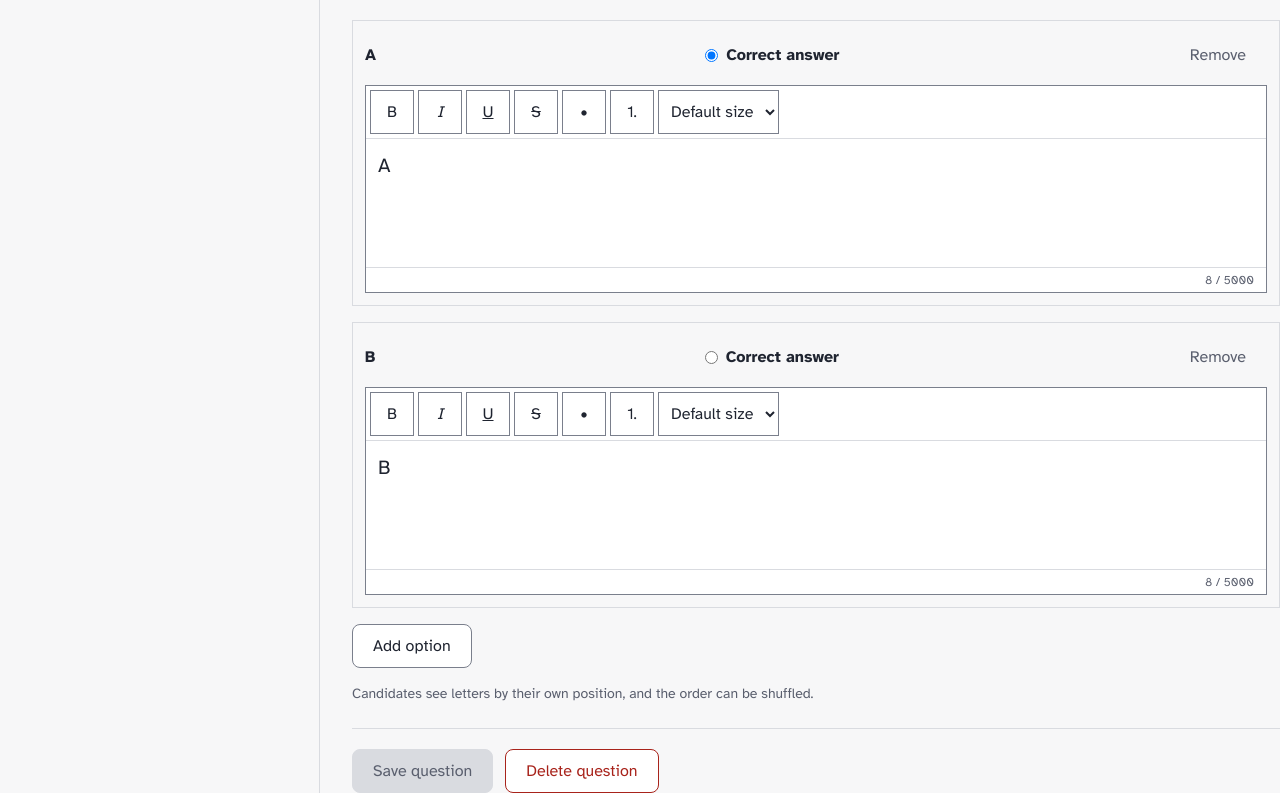
it: QuestionBuilder › shows delete failures as persistent toasts
This screenshot has width=1280, height=793.
(page scrolled)
Click the button "Delete question". click: click(582, 771)
box: x1=505 y1=749 x2=659 y2=792
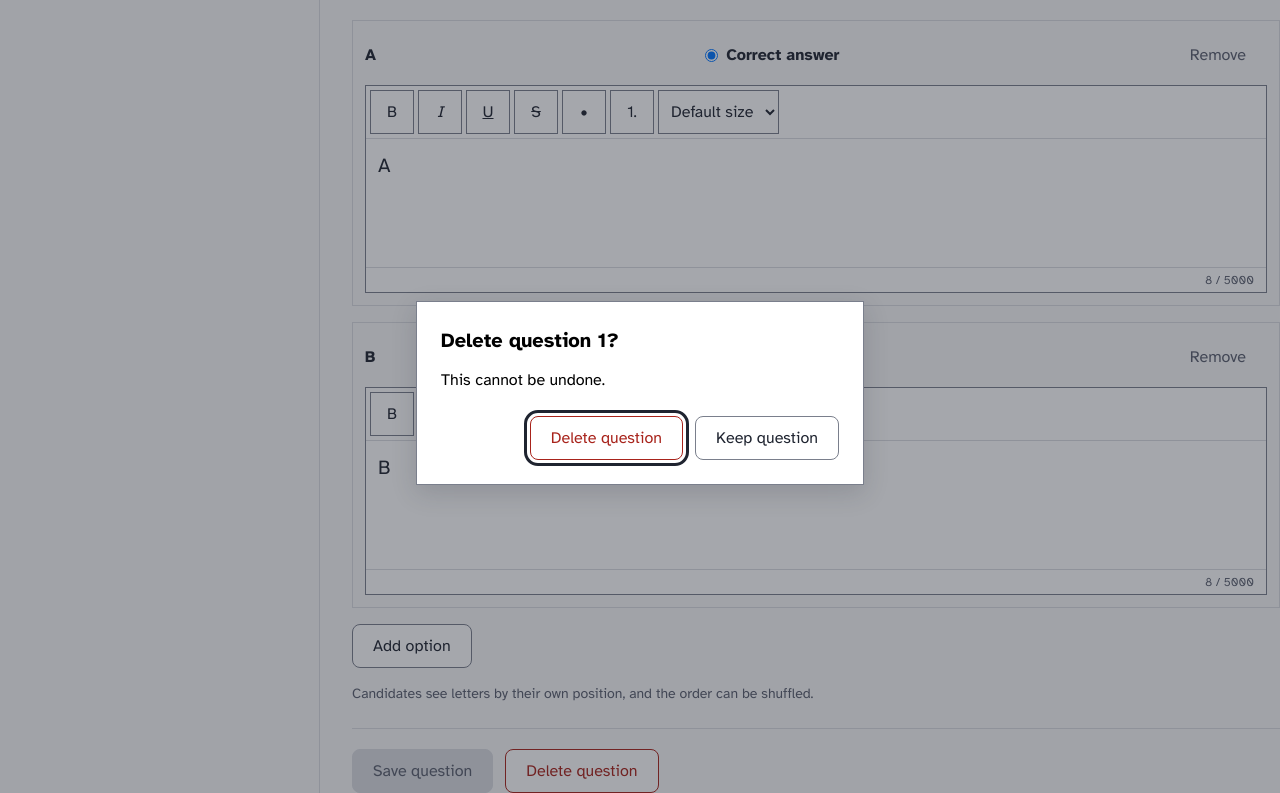
Click the button "Delete question". click: click(606, 438)
box: x1=530 y1=416 x2=683 y2=460
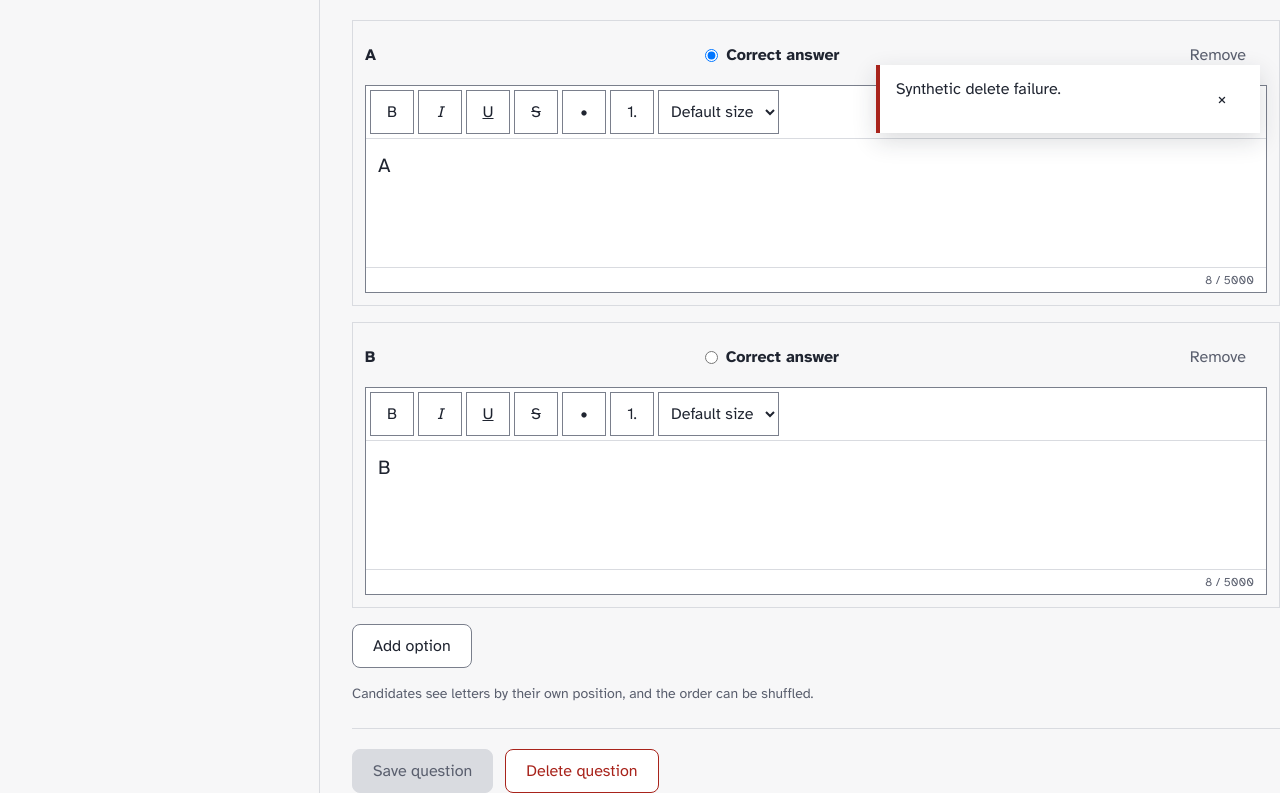
Check: the text "Synthetic delete failure." is shown, box x1=896 y1=77 x2=1061 y2=101
